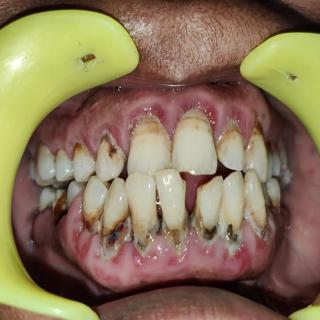Gum Swelling: (67, 189, 259, 277), (63, 92, 257, 163)
calculus: (218, 199, 245, 257), (246, 194, 270, 253), (108, 210, 135, 259), (190, 204, 217, 252), (164, 218, 193, 262), (138, 215, 162, 257), (80, 204, 106, 241), (131, 106, 165, 134), (95, 126, 118, 164), (70, 134, 90, 162), (248, 109, 268, 137), (223, 114, 239, 136)
cavities: (50, 194, 68, 229)
maligned: (176, 98, 219, 180), (151, 158, 189, 245), (126, 168, 163, 244), (129, 110, 172, 174), (244, 165, 268, 239), (216, 116, 244, 170), (246, 119, 269, 178)
